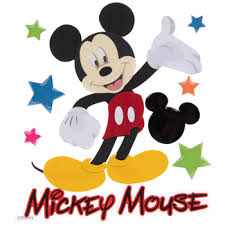mickey: (43, 1, 202, 192)
